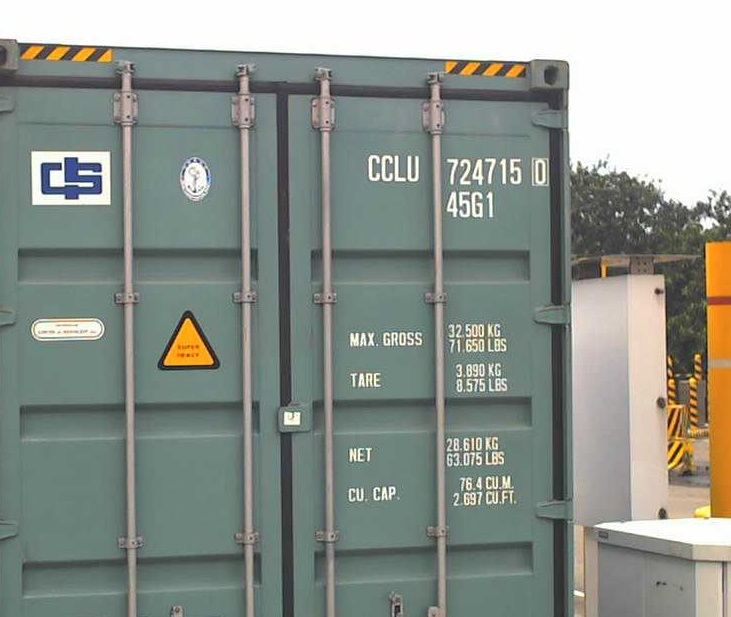container_door: (3, 34, 579, 617)
